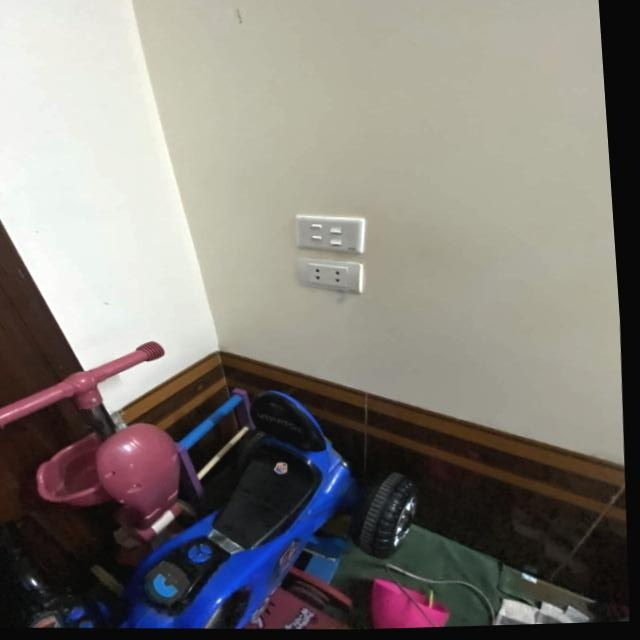outlet: (295, 256, 364, 297)
